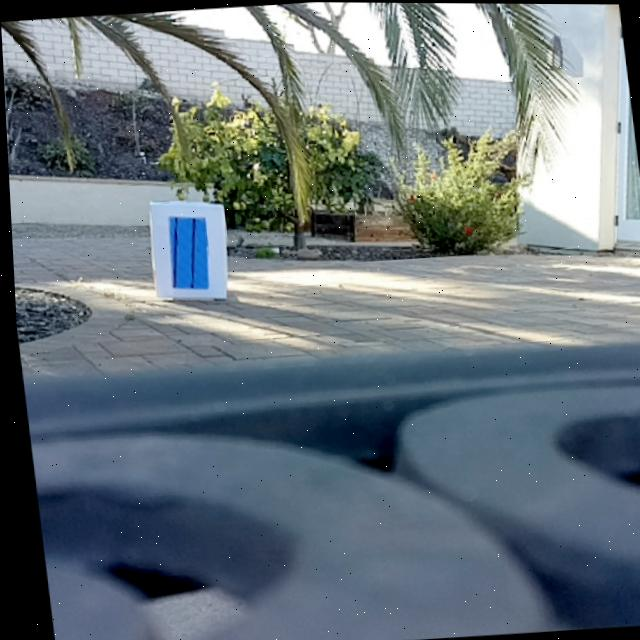led: (162, 211, 211, 290)
